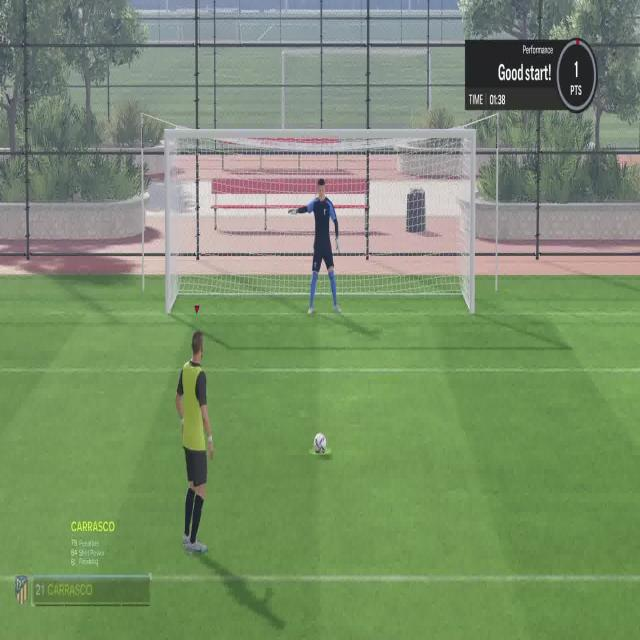circle: (310, 448, 331, 455)
football: (311, 432, 329, 456)
goal-bottom-left: (170, 226, 270, 314)
goal-bottom-right: (370, 226, 470, 314)
goal-middle-down: (270, 226, 370, 314)
goal-middle-up: (270, 138, 370, 226)
goal-top-left: (170, 138, 270, 226)
goal-top-right: (370, 138, 470, 226)
goalkeeper: (284, 172, 342, 316)
player: (171, 323, 220, 560)
